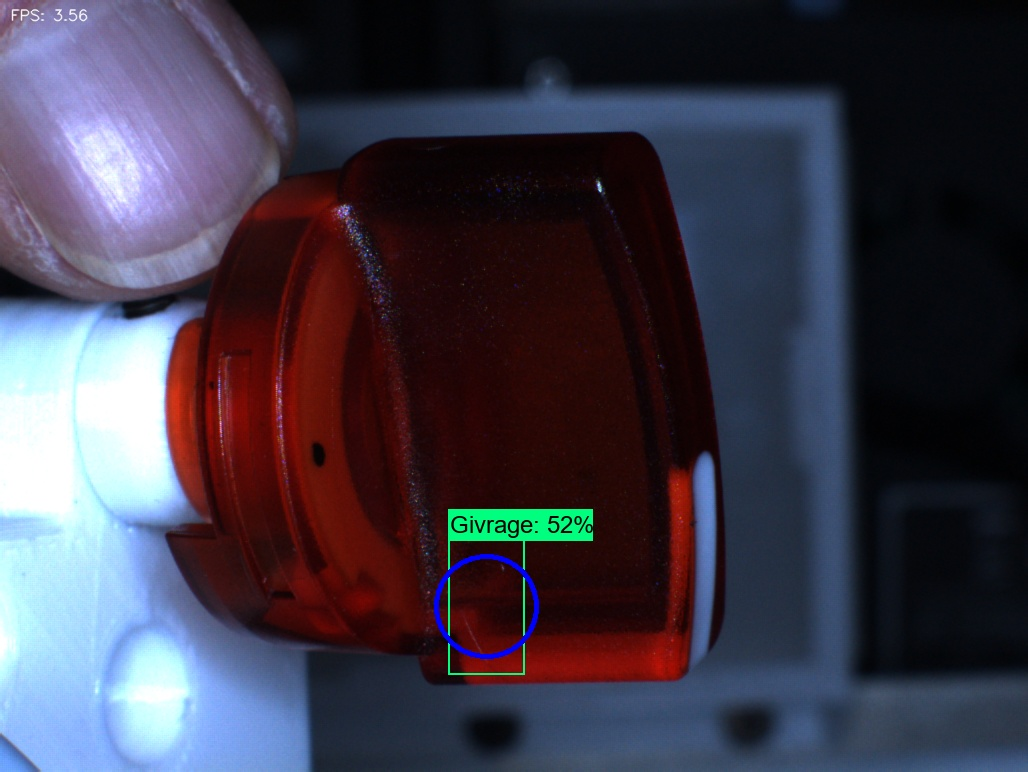PointNoir: (276, 411, 359, 505)
